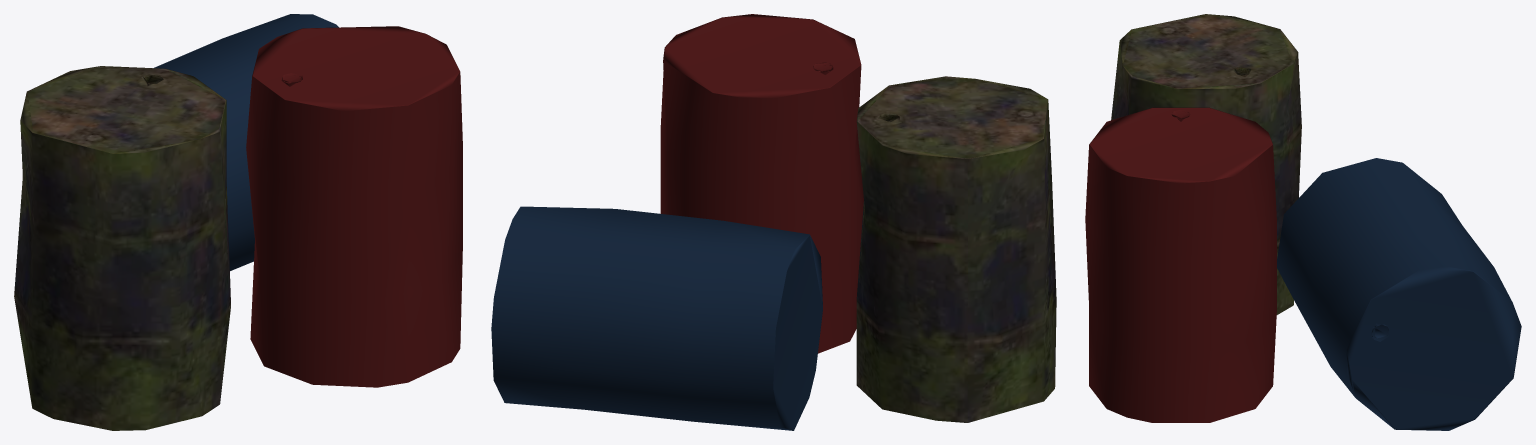
The model's file is oil-drums.lod1.glb.
3 views of the same model, side by side, from view 1: azimuth 30°, elevation 25°; view 2: azimuth 150°, elevation 25°; view 3: azimuth 270°, elevation 25° (orthographic). The views are drawn at different scales.
Parts seen in each view (by area): view 1: Red_Drum_low_Mat_Oil_Drum_Red_0, Damaged_Drum_low_Mat_Oil_Drum_Damaged_0; view 2: Red_Drum_low_Mat_Oil_Drum_Red_0, Damaged_Drum_low_Mat_Oil_Drum_Damaged_0; view 3: Red_Drum_low_Mat_Oil_Drum_Red_0, Damaged_Drum_low_Mat_Oil_Drum_Damaged_0.
Boxes of the visible parts, bbox=[...] form: Red_Drum_low_Mat_Oil_Drum_Red_0: bbox=[153, 14, 462, 387]; Damaged_Drum_low_Mat_Oil_Drum_Damaged_0: bbox=[14, 66, 230, 430]; Red_Drum_low_Mat_Oil_Drum_Red_0: bbox=[491, 14, 863, 430]; Damaged_Drum_low_Mat_Oil_Drum_Damaged_0: bbox=[856, 76, 1056, 422]; Red_Drum_low_Mat_Oil_Drum_Red_0: bbox=[1085, 107, 1521, 430]; Damaged_Drum_low_Mat_Oil_Drum_Damaged_0: bbox=[1111, 14, 1301, 314].
Size of the model in its own units: 1.78 by 1.08 by 1.72.
2 materials, 1 textured.
